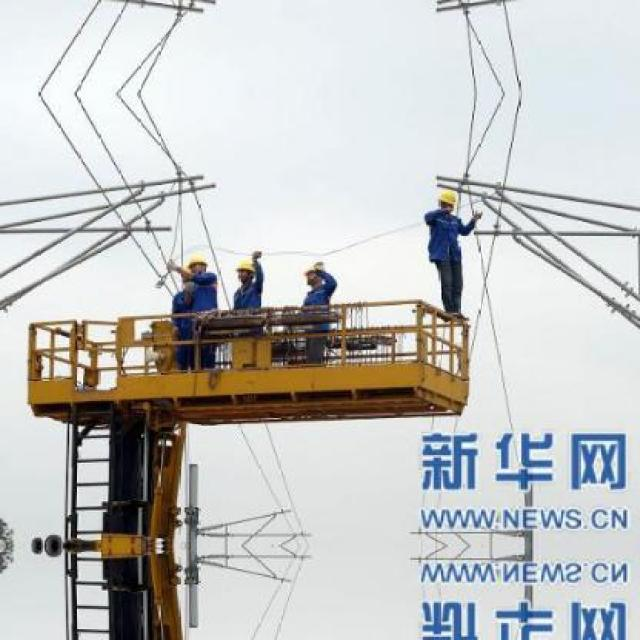helmet: (182, 250, 212, 278), (303, 262, 328, 290), (233, 256, 256, 285), (435, 187, 454, 212)
